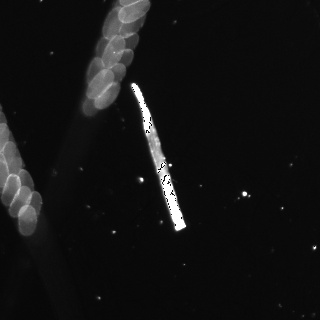embryo: (86, 69, 114, 100), (103, 34, 126, 68), (94, 82, 121, 110), (118, 11, 145, 38), (102, 6, 123, 40), (101, 63, 127, 90), (82, 88, 107, 116), (10, 186, 32, 217), (3, 141, 22, 176), (2, 174, 21, 206), (22, 191, 42, 221), (17, 206, 37, 236), (85, 57, 104, 87), (17, 169, 35, 198), (110, 48, 134, 68), (119, 31, 139, 52), (96, 37, 113, 61)
